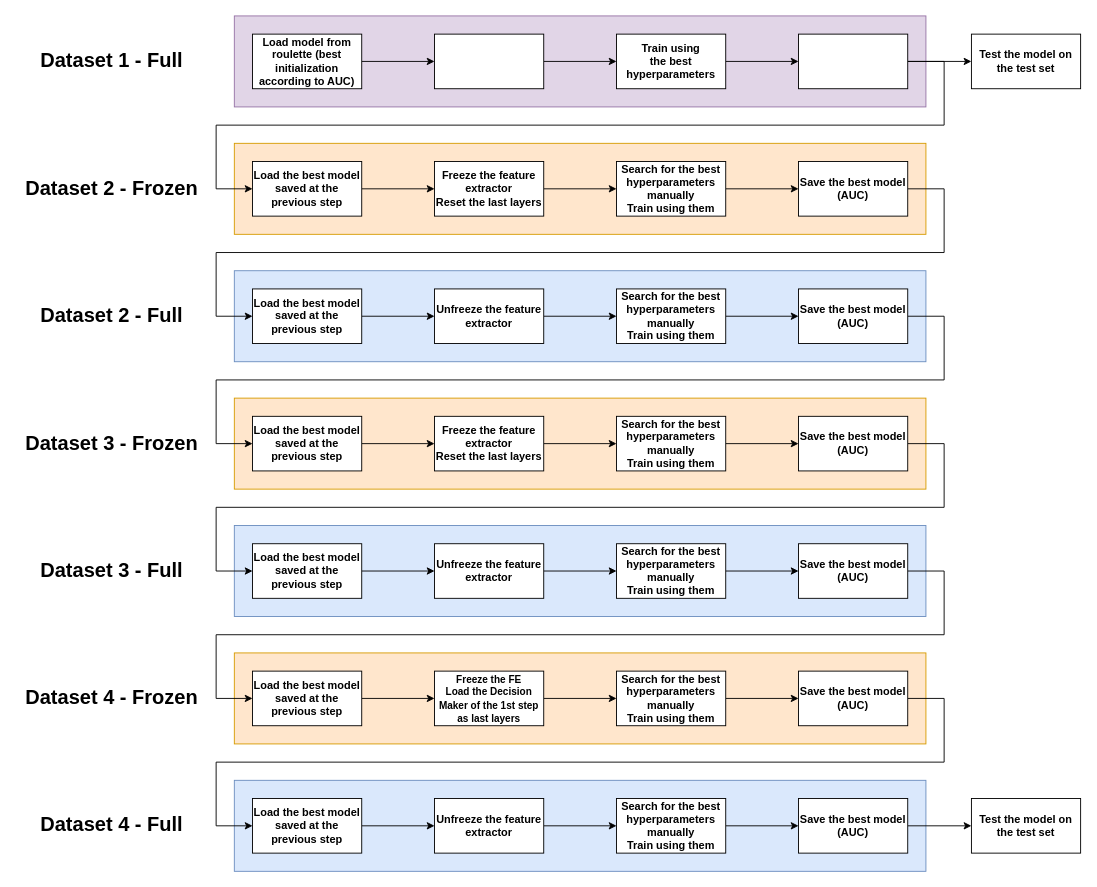
Some shapes in this 1097 by 887 pixel diagram are drawn without their labels. Each missing label, with the box of its shape:
Save the best model (AUC) Save its Decision Maker (last layers): (798, 33, 908, 89)
Search for the best hyperparameters manually: (434, 33, 544, 89)
